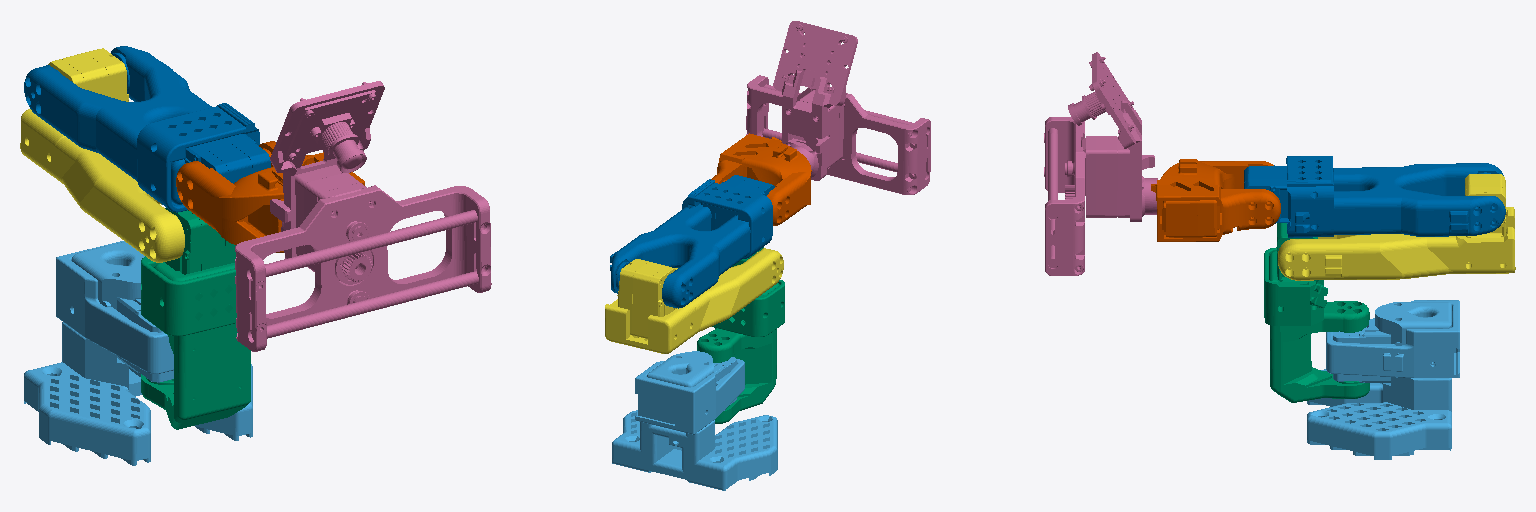
robot.urdf — so_101:
<?xml version='1.0' encoding='utf-8'?>
<robot name="so_101">




  <mujoco>
    <compiler meshdir="meshes/arm" />
  </mujoco>





  <link name="world" />
  <joint name="world_to_base" type="fixed">
    <parent link="world" />
    <child link="base_link" />
    <origin xyz="0 0 0" rpy="0 0 0" />
  </joint>





  <link name="base_link">
    <inertial>
      <origin xyz="-7.395983749131527e-05 0.018688778123587116 0.031975817456183726" rpy="0 0 0" />
      <mass value="0.2092095548721987" />
      <inertia ixx="0.000199" iyy="0.000196" izz="0.000203" ixy="1e-06" iyz="-1e-05" ixz="0.0" />
    </inertial>
    <visual>
      <origin xyz="0 0 0" rpy="0 0 0" />
      <geometry>
        <mesh filename="arm/base_link.stl" scale="0.001 0.001 0.001" />
      </geometry>
      <material name="silver" />
    </visual>
    <collision>
      <origin xyz="0 0 0" rpy="0 0 0" />
      <geometry>
        <mesh filename="arm/base_link.stl" scale="0.001 0.001 0.001" />
      </geometry>
    </collision>
  </link>

  <link name="link1_1">
    <inertial>
      <origin xyz="-6.74951590711253e-05 -0.030490405697529033 0.053766555610065915" rpy="0 0 0" />
      <mass value="0.24184654503223657" />
      <inertia ixx="0.000195" iyy="0.000199" izz="9.5e-05" ixy="1e-06" iyz="1.6e-05" ixz="-2e-06" />
    </inertial>
    <visual>
      <origin xyz="9.9e-05 0.007243 -0.027983" rpy="0 0 0" />
      <geometry>
        <mesh filename="arm/link1_1.stl" scale="0.001 0.001 0.001" />
      </geometry>
      <material name="silver" />
    </visual>
    <collision>
      <origin xyz="9.9e-05 0.007243 -0.027983" rpy="0 0 0" />
      <geometry>
        <mesh filename="arm/link1_1.stl" scale="0.001 0.001 0.001" />
      </geometry>
    </collision>
  </link>

  <link name="link2_1">
    <inertial>
      <origin xyz="-0.018388577871412994 0.06261038358877268 0.0010120440807449838" rpy="0 0 0" />
      <mass value="0.98611438366224" />
      <inertia ixx="0.001336" iyy="0.000432" izz="0.001637" ixy="1.3e-05" iyz="-3.7e-05" ixz="-1e-06" />
    </inertial>
    <visual>
      <origin xyz="-0.020792 0.038556 -0.11936" rpy="0 0 0" />
      <geometry>
        <mesh filename="arm/link2_1.stl" scale="0.001 0.001 0.001" />
      </geometry>
      <material name="silver" />
    </visual>
    <collision>
      <origin xyz="-0.020792 0.038556 -0.11936" rpy="0 0 0" />
      <geometry>
        <mesh filename="arm/link2_1.stl" scale="0.001 0.001 0.001" />
      </geometry>
    </collision>
  </link>

  <link name="link3_1">
    <inertial>
      <origin xyz="-0.017751520535904237 -0.06544031690248904 -0.0001729613192295032" rpy="0 0 0" />
      <mass value="0.9031154796125306" />
      <inertia ixx="0.001194" iyy="0.000364" izz="0.00144" ixy="1.5e-05" iyz="1.4e-05" ixz="-2e-06" />
    </inertial>
    <visual>
      <origin xyz="-0.022302 -0.073879 -0.148777" rpy="0 0 0" />
      <geometry>
        <mesh filename="arm/link3_1.stl" scale="0.001 0.001 0.001" />
      </geometry>
      <material name="silver" />
    </visual>
    <collision>
      <origin xyz="-0.022302 -0.073879 -0.148777" rpy="0 0 0" />
      <geometry>
        <mesh filename="arm/link3_1.stl" scale="0.001 0.001 0.001" />
      </geometry>
    </collision>
  </link>

  <link name="link4_1">
    <inertial>
      <origin xyz="-0.014388616159181473 -0.028802697165152366 -0.00020561897946119734" rpy="0 0 0" />
      <mass value="0.31773533805976817" />
      <inertia ixx="0.000138" iyy="0.000153" izz="0.000239" ixy="2.5e-05" iyz="0.0" ixz="-1e-06" />
    </inertial>
    <visual>
      <origin xyz="-0.024382 0.060582 -0.152897" rpy="0 0 0" />
      <geometry>
        <mesh filename="arm/link4_1.stl" scale="0.001 0.001 0.001" />
      </geometry>
      <material name="silver" />
    </visual>
    <collision>
      <origin xyz="-0.024382 0.060582 -0.152897" rpy="0 0 0" />
      <geometry>
        <mesh filename="arm/link4_1.stl" scale="0.001 0.001 0.001" />
      </geometry>
    </collision>
  </link>

  <link name="link5_1">
    <inertial>
      <origin xyz="-0.0005839285183169068 -0.04153912948671028 0.01505583353882603" rpy="0 0 0" />
      <mass value="0.5561721109318601" />
      <inertia ixx="0.000579" iyy="0.000983" izz="0.000737" ixy="1e-06" iyz="-8.4e-05" ixz="-5e-06" />
    </inertial>
    <visual>
      <origin xyz="-0.007062 0.120627 -0.152066" rpy="0 0 0" />
      <geometry>
        <mesh filename="arm/link5_1.stl" scale="0.001 0.001 0.001" />
      </geometry>
      <material name="silver" />
    </visual>
    <collision>
      <origin xyz="-0.007062 0.120627 -0.152066" rpy="0 0 0" />
      <geometry>
        <mesh filename="arm/link5_1.stl" scale="0.001 0.001 0.001" />
      </geometry>
    </collision>
  </link>

  <joint name="base_link_to_link1" type="revolute">
    <origin xyz="-9.9e-05 -0.007243 0.027983" rpy="0 0 0" />
    <parent link="base_link" />
    <child link="link1_1" />
    <axis xyz="-0.0 -0.008727 0.999962" />
    <limit lower="-2.094395" upper="2.094395" effort="1.5" velocity="5.236" />
    <dynamics damping="0.1" friction="0.05" />
    <safety_controller soft_lower_limit="-2.044" soft_upper_limit="2.044" k_position="100" k_velocity="10" />
  </joint>


  <joint name="link1_to_link2" type="revolute">
    <origin xyz="0.020891 -0.031313 0.091377" rpy="0 0 0" />
    <parent link="link1_1" />
    <child link="link2_1" />
    <axis xyz="-0.999962 -0.008726 -7.6e-05" />
    <limit lower="-3.228859" upper="0.174533" effort="1.5" velocity="5.236" />
    <dynamics damping="0.1" friction="0.05" />
    <safety_controller soft_lower_limit="-3.179" soft_upper_limit="0.125" k_position="100" k_velocity="10" />
  </joint>


  <joint name="link2_to_link3" type="revolute">
    <origin xyz="0.00151 0.112435 0.029417" rpy="0 0 0" />
    <parent link="link2_1" />
    <child link="link3_1" />
    <axis xyz="-0.999924 -0.00865 -0.008802" />
    <limit lower="0.0" upper="3.316126" effort="1.5" velocity="5.236" />
    <dynamics damping="0.1" friction="0.05" />
    <safety_controller soft_lower_limit="0.05" soft_upper_limit="3.266" k_position="100" k_velocity="10" />
  </joint>


  <joint name="link3_to_link4" type="revolute">
    <origin xyz="0.00208 -0.134461 0.00412" rpy="0 0 0" />
    <parent link="link3_1" />
    <child link="link4_1" />
    <axis xyz="-0.999848 0.000153 -0.017451" />
    <limit lower="-1.658063" upper="1.658063" effort="1.5" velocity="5.236" />
    <dynamics damping="0.1" friction="0.05" />
    <safety_controller soft_lower_limit="-1.608" soft_upper_limit="1.608" k_position="100" k_velocity="10" />
  </joint>


  <joint name="link4_to_link5" type="revolute">
    <origin xyz="-0.01732 -0.060045 -0.000831" rpy="0 0 0" />
    <parent link="link4_1" />
    <child link="link5_1" />
    <axis xyz="-1e-06 0.999961 0.008803" />
    <limit lower="-4.276057" upper="1.570796" effort="1.5" velocity="5.236" />
    <dynamics damping="0.1" friction="0.05" />
    <safety_controller soft_lower_limit="-4.226" soft_upper_limit="1.521" k_position="100" k_velocity="10" />
  </joint>


  </robot>

--- What the picture shows (computed from the rendered views, not written in the file) ---
3 views of the same robot in one strip: view 1: azimuth 30°, elevation 25°; view 2: azimuth 150°, elevation 25°; view 3: azimuth 270°, elevation 25° (orthographic).
Robot: so_101 — 7 links, 6 joints (5 revolute, 1 fixed); root link world; default pose: every joint at zero.
Visible links, largest first — view 1: link5_1, base_link, link3_1, link1_1, link2_1, link4_1; view 2: link5_1, base_link, link3_1, link2_1, link1_1, link4_1; view 3: base_link, link3_1, link5_1, link2_1, link1_1, link4_1.
Boxes of the visible links, <box> form: link5_1: <box>235,81,491,351</box>; base_link: <box>24,241,252,465</box>; link3_1: <box>24,46,270,212</box>; link1_1: <box>141,208,250,429</box>; link2_1: <box>20,48,184,262</box>; link4_1: <box>176,141,364,252</box>; link5_1: <box>746,21,930,194</box>; base_link: <box>612,351,777,490</box>; link3_1: <box>610,175,774,308</box>; link2_1: <box>605,248,783,353</box>; link1_1: <box>697,247,784,423</box>; link4_1: <box>711,133,811,225</box>; base_link: <box>1307,300,1459,459</box>; link3_1: <box>1244,156,1505,237</box>; link5_1: <box>1044,52,1157,275</box>; link2_1: <box>1278,174,1515,280</box>; link1_1: <box>1264,223,1369,402</box>; link4_1: <box>1151,159,1280,241</box>.
Bounding box of the posed robot: 0.1288 × 0.2818 × 0.2368 m (x, y, z).
6 mesh visuals loaded from 6 distinct referenced files (6 binary STL).
